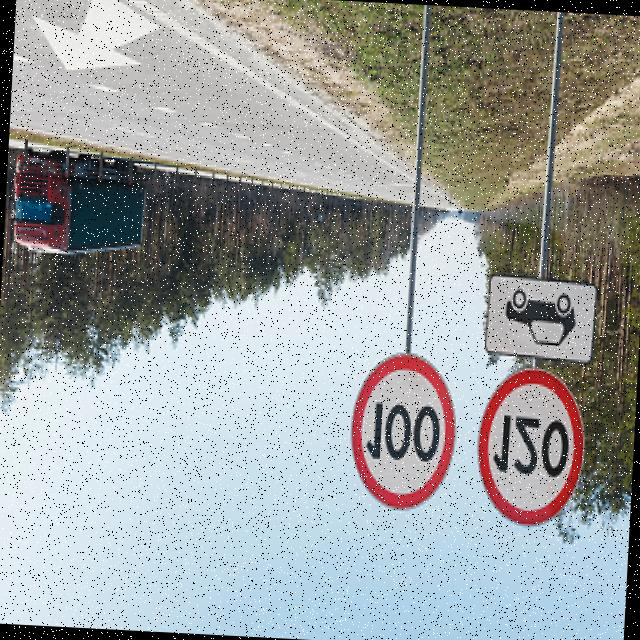speed_limit_100: (340, 343, 468, 518)
speed_limit_120: (470, 364, 596, 531)
